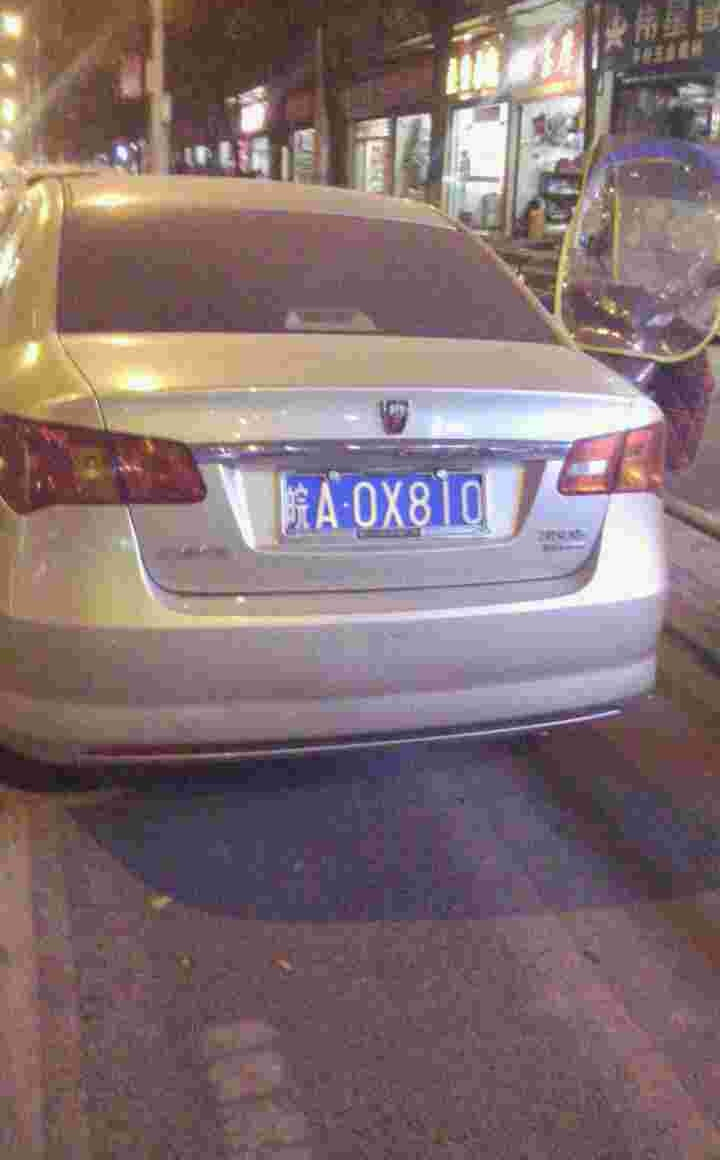license_plate: (289, 466, 488, 539)
